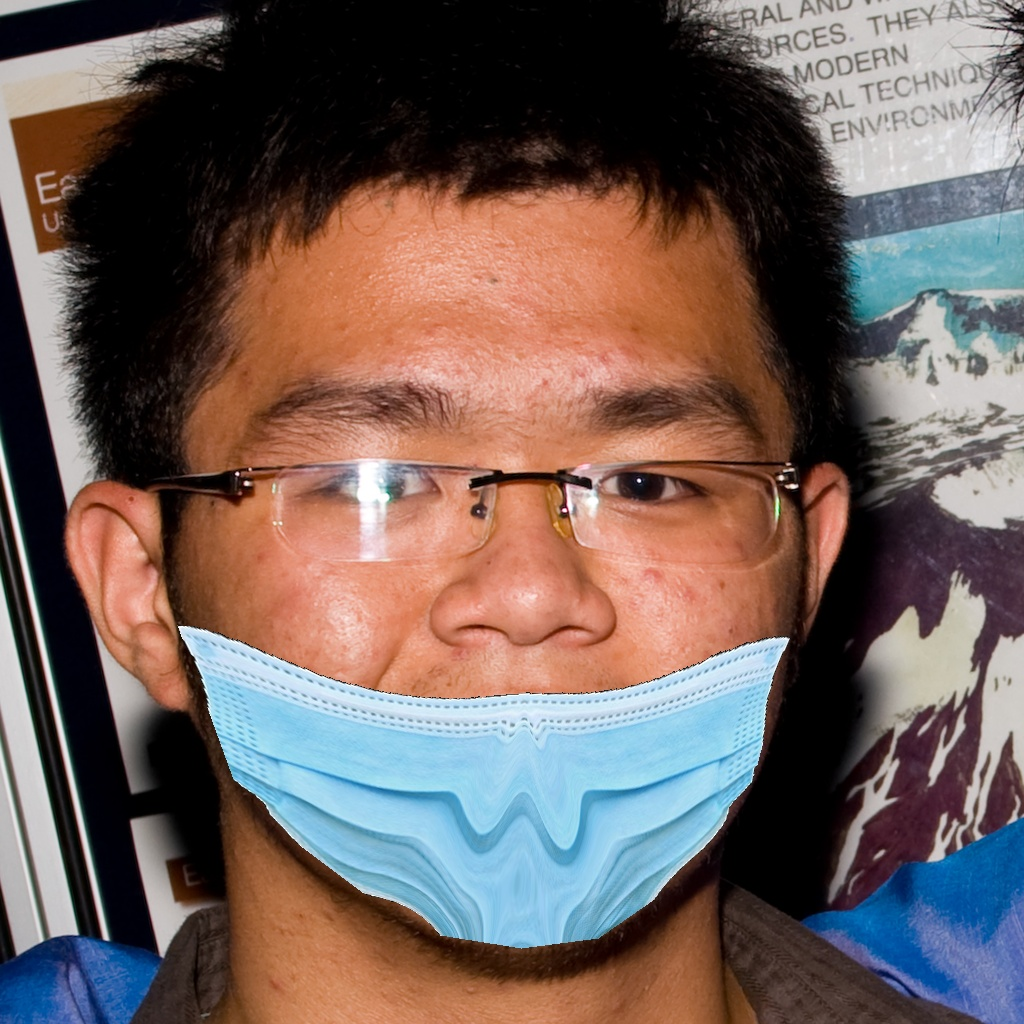mascarilla_mal_puesta: (197, 365, 799, 968)
